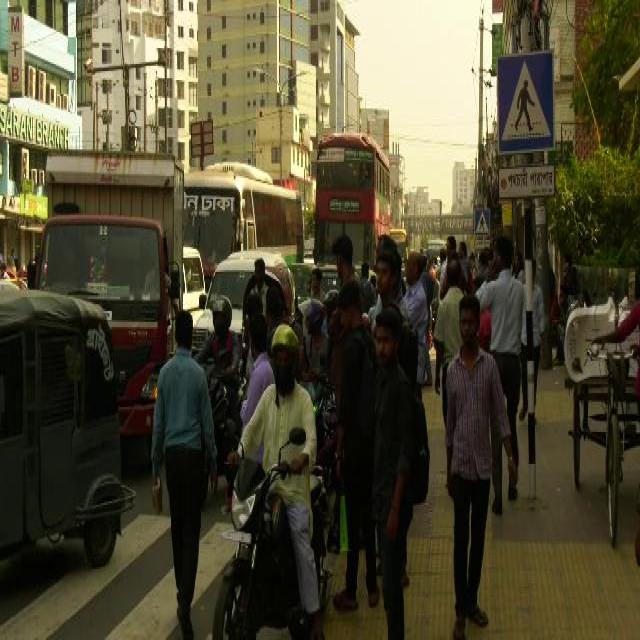bus: (310, 123, 391, 272), (184, 162, 306, 260), (422, 238, 445, 263)
motorcycle: (0, 283, 139, 574), (212, 444, 314, 638), (288, 260, 316, 302)
truck: (33, 151, 188, 443)
